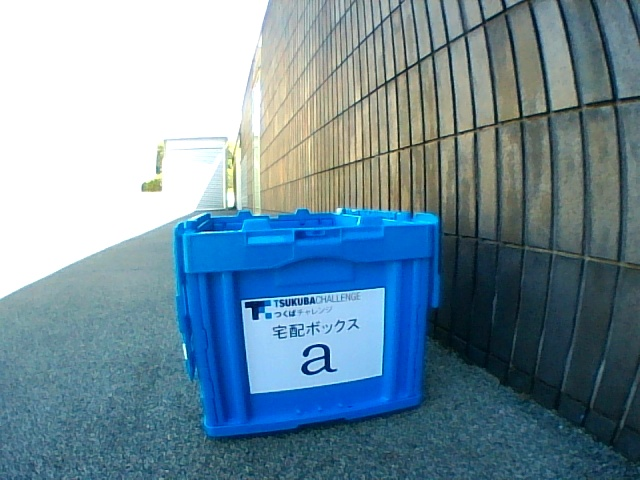blue_box: (174, 208, 440, 438)
tag_a: (261, 311, 371, 375)
